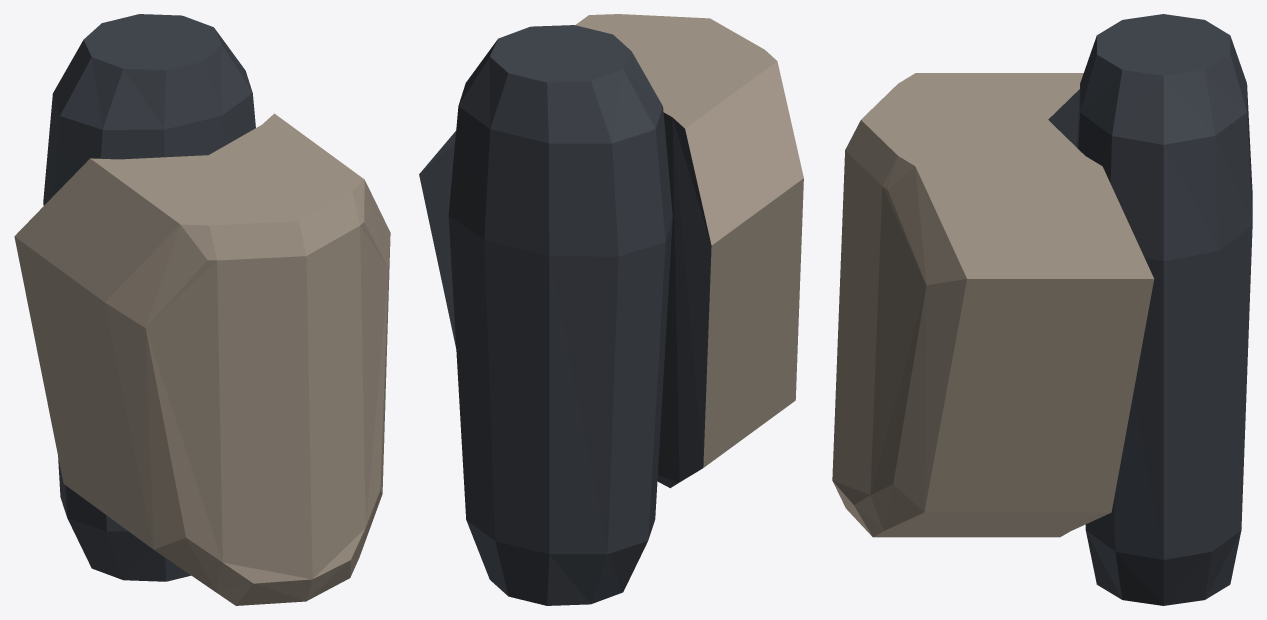
The model's file is forearm_light.glb.
3 views of the same model, side by side, from view 1: azimuth 30°, elevation 25°; view 2: azimuth 150°, elevation 25°; view 3: azimuth 270°, elevation 25° (orthographic). The views are drawn at different scales.
Visible parts, largest first — view 1: forearm_light; view 2: forearm_light; view 3: forearm_light.
Part boxes in pixels (<box>): forearm_light: <box>14,14,390,605</box>; forearm_light: <box>419,14,803,605</box>; forearm_light: <box>832,14,1252,605</box>.
Bounding box in the file's own units: 0.585 × 1 × 0.7184.
